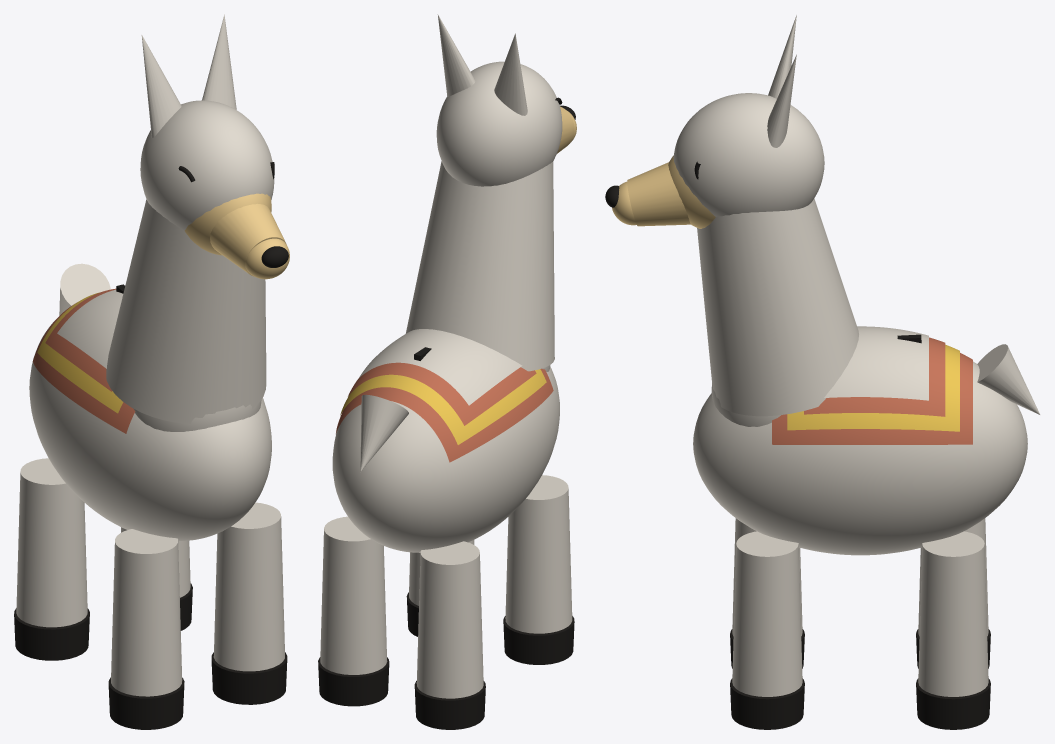
Rendered from llama-bank.glb.
3 views of the same model, side by side, from view 1: azimuth 30°, elevation 25°; view 2: azimuth 150°, elevation 25°; view 3: azimuth 270°, elevation 25° (orthographic). The views are drawn at different scales.
Parts seen in each view (by area): view 1: neck, body, head, leg_front_left, leg_front_right, leg_rear_left, muzzle, blanket_core, hoof_rear_left, hoof_front_left, hoof_front_right, blanket_outer (+10 smaller); view 2: neck, body, head, leg_rear_left, leg_rear_right, leg_front_left, blanket_core, blanket_outer, blanket_band, blanket_inner, hoof_front_left, hoof_rear_right (+6 smaller); view 3: body, neck, head, leg_front_right, leg_rear_right, blanket_core, blanket_outer, blanket_band, blanket_inner, muzzle, hoof_front_right, hoof_rear_right (+4 smaller).
Boxes of the visible parts, <box> form: neck: <box>106,199,266,423</box>; body: <box>29,321,271,540</box>; head: <box>140,100,274,230</box>; leg_front_left: <box>111,529,182,696</box>; leg_front_right: <box>213,502,284,671</box>; leg_rear_left: <box>16,458,87,627</box>; muzzle: <box>210,203,286,276</box>; blanket_core: <box>57,289,123,368</box>; hoof_rear_left: <box>14,608,89,660</box>; hoof_front_left: <box>108,677,184,729</box>; hoof_front_right: <box>211,652,287,704</box>; blanket_outer: <box>32,303,135,433</box>; neck: <box>405,161,554,371</box>; body: <box>332,367,559,552</box>; head: <box>436,61,562,186</box>; leg_rear_left: <box>416,541,483,698</box>; leg_rear_right: <box>320,516,387,674</box>; leg_front_left: <box>505,475,572,633</box>; blanket_core: <box>359,329,522,405</box>; blanket_outer: <box>336,368,553,462</box>; blanket_band: <box>340,369,546,444</box>; blanket_inner: <box>348,362,536,425</box>; hoof_front_left: <box>503,616,574,664</box>; hoof_rear_right: <box>318,657,389,706</box>; body: <box>693,361,1027,555</box>; neck: <box>697,198,858,416</box>; head: <box>673,93,824,216</box>; leg_front_right: <box>732,531,802,696</box>; leg_rear_right: <box>918,531,988,696</box>; blanket_core: <box>824,326,928,400</box>; blanket_outer: <box>772,353,972,444</box>; blanket_band: <box>787,344,959,431</box>; blanket_inner: <box>804,337,945,416</box>; muzzle: <box>627,162,690,226</box>; hoof_front_right: <box>730,678,804,729</box>; hoof_rear_right: <box>916,678,990,729</box>.
Bounding box in the file's own units: 0.148 × 0.5449 × 0.3276.
